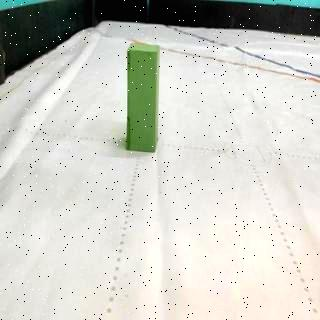greenbox: (124, 40, 162, 154)
